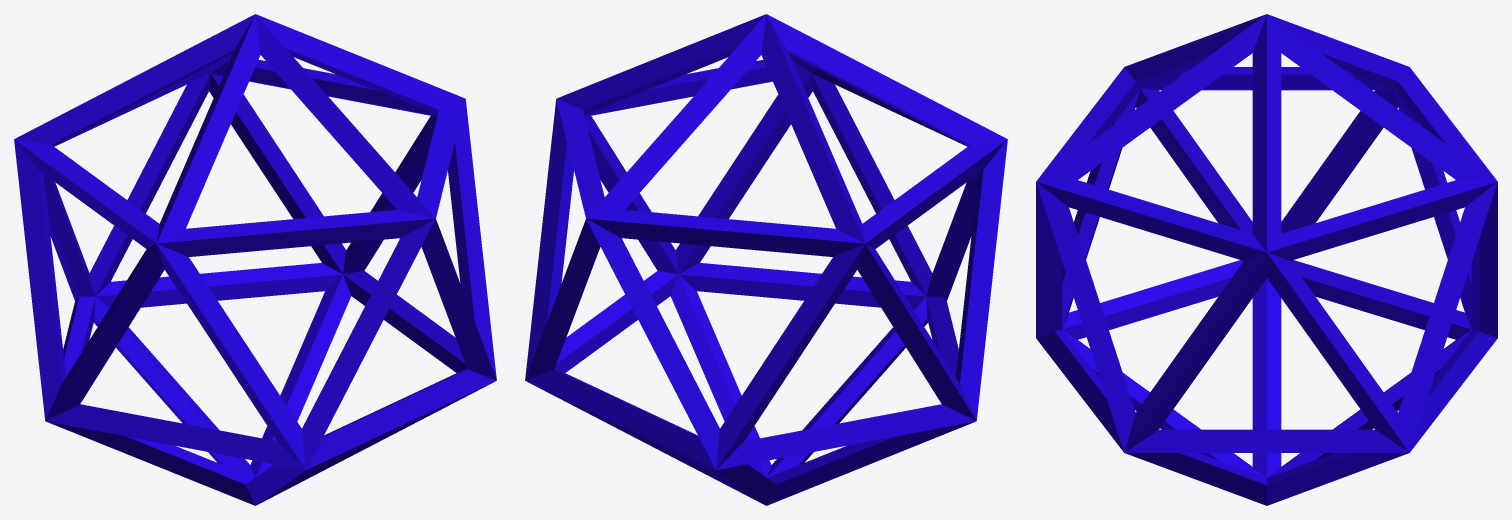
The picture shows the model from 3 angles, left to right: view 1: azimuth 30°, elevation 25°; view 2: azimuth 150°, elevation 25°; view 3: azimuth 270°, elevation 25°; orthographic projection.
Parts seen in each view (by area): view 1: Icosphere; view 2: Icosphere; view 3: Icosphere.
Part boxes in pixels (<box>): Icosphere: <box>14,14,496,505</box>; Icosphere: <box>525,14,1007,505</box>; Icosphere: <box>1036,14,1497,505</box>.
Bounding box in the file's own units: 190 × 212 × 180.
